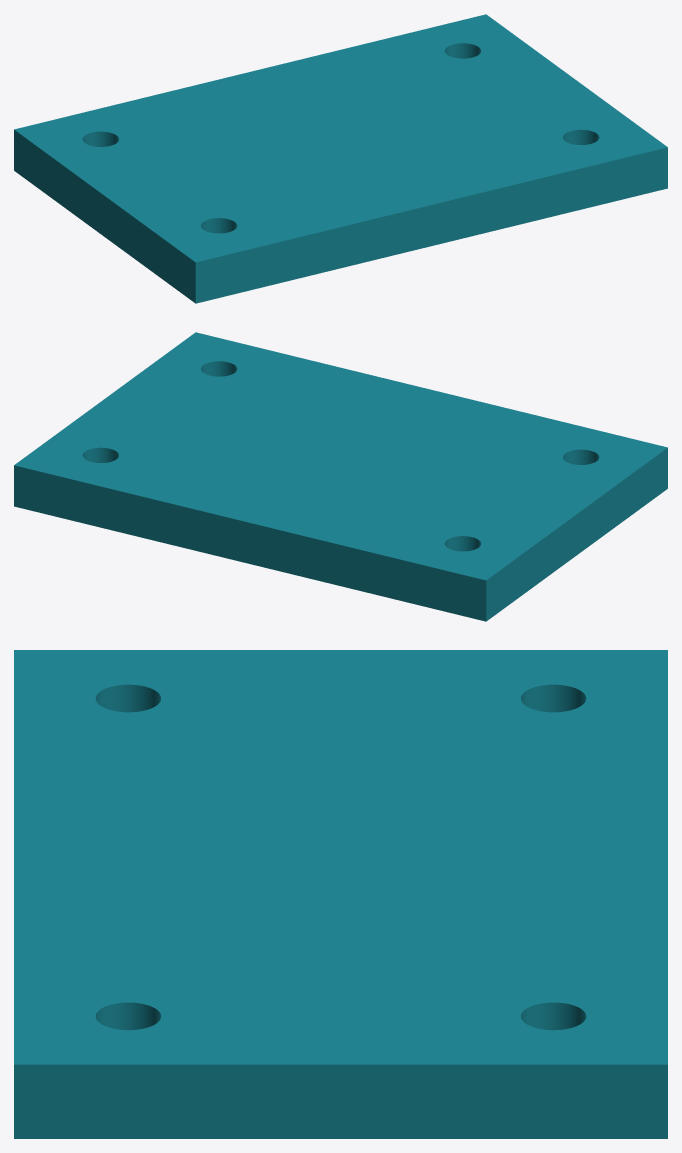
The picture shows the model from 3 angles, top to bottom: view 1: azimuth 30°, elevation 25°; view 2: azimuth 150°, elevation 25°; view 3: azimuth 270°, elevation 25°; orthographic projection. The views are drawn at different scales.
Parts seen in each view (by area): view 1: Four-hole mounting plate; view 2: Four-hole mounting plate; view 3: Four-hole mounting plate.
Part boxes in pixels (left/top/right/bottom): Four-hole mounting plate: left=14, top=14, right=667, bottom=303; Four-hole mounting plate: left=14, top=332, right=667, bottom=621; Four-hole mounting plate: left=14, top=650, right=667, bottom=1138.
Bounding box in the file's own units: 0.06 × 0.005 × 0.04.
